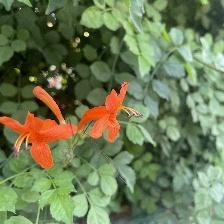honeysuckle: (77, 85, 147, 148)
